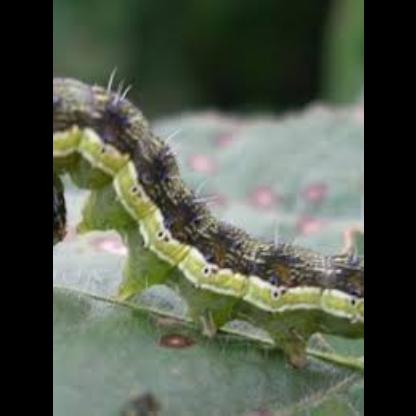oruga: (52, 72, 364, 364)
